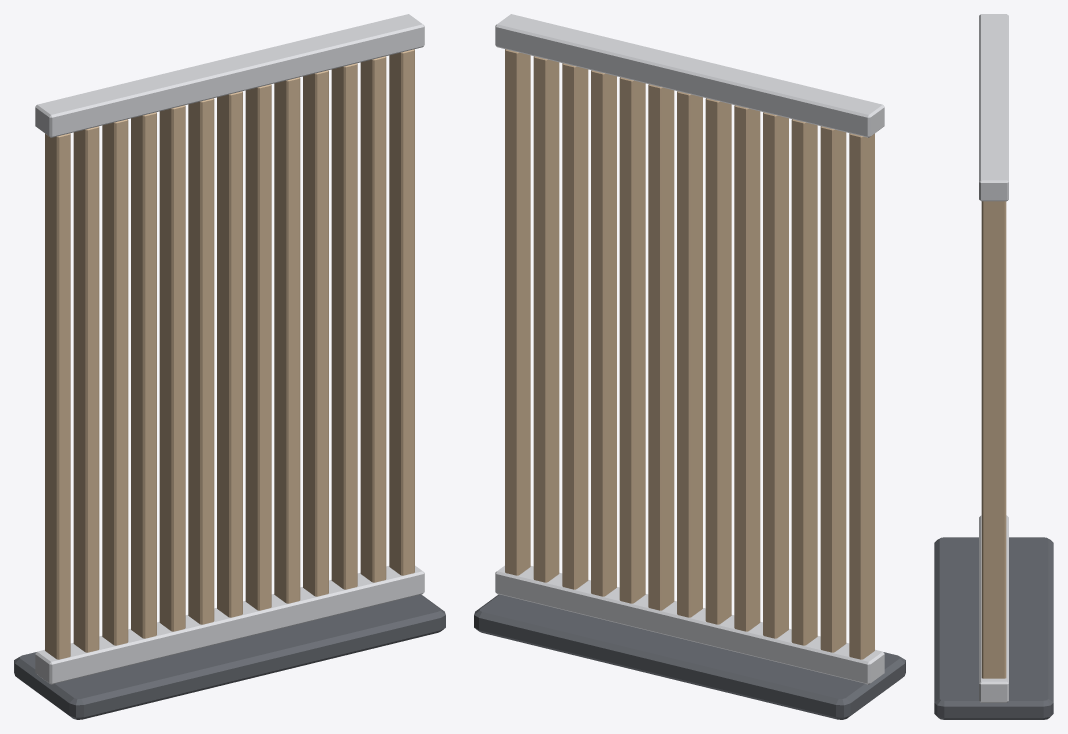
The model's file is downtown-office-interiors-slatted-timber-divider-a423443c__17049.glb.
The picture shows the model from 3 angles, left to right: view 1: azimuth 30°, elevation 25°; view 2: azimuth 150°, elevation 25°; view 3: azimuth 270°, elevation 25°; orthographic projection. The views are drawn at different scales.
Visible parts, largest first — view 1: slatted-timber-divider; view 2: slatted-timber-divider; view 3: slatted-timber-divider.
Boxes of the visible parts, x1=… form: slatted-timber-divider: x1=14, y1=14, x2=445, y2=719; slatted-timber-divider: x1=474, y1=14, x2=905, y2=719; slatted-timber-divider: x1=934, y1=14, x2=1053, y2=719.
Size of the model in its own units: 1.2 by 1.8 by 0.36.
